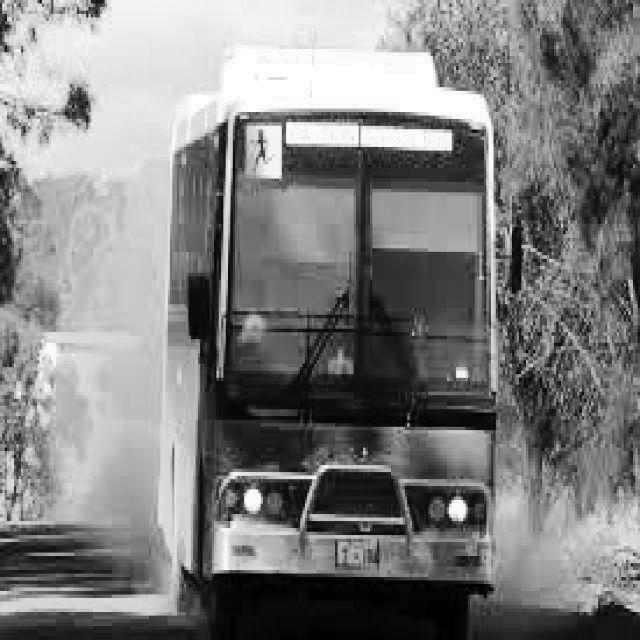Bus: (141, 23, 529, 623)
